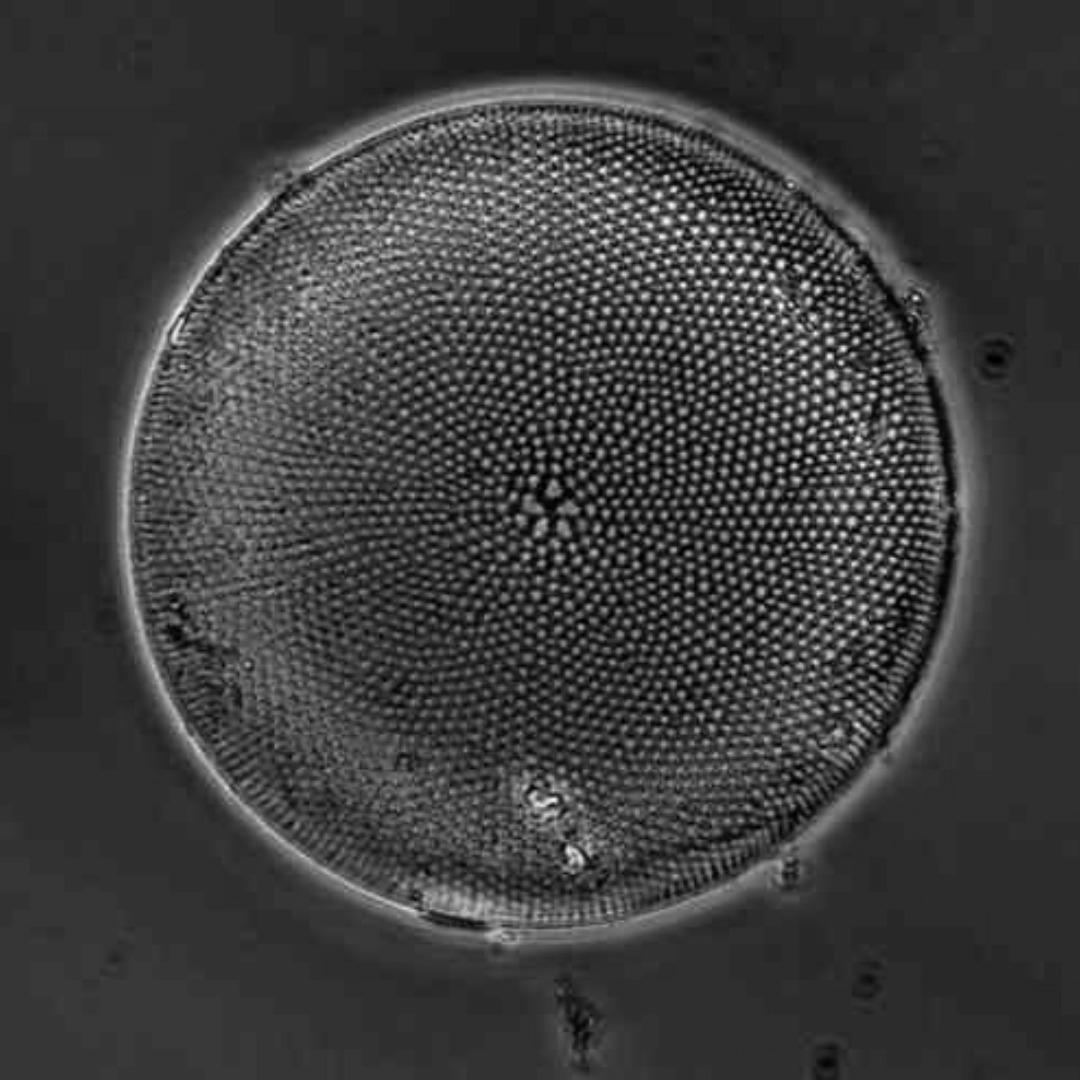coscinodiscus_oculus_iridis: (128, 94, 962, 932)
